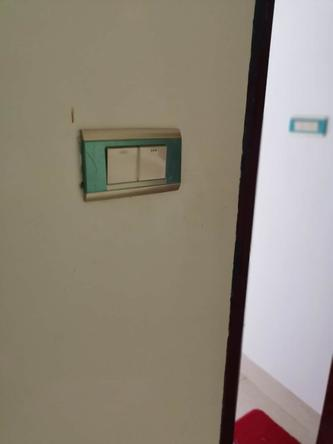switch: (104, 141, 144, 189), (133, 142, 172, 182)
